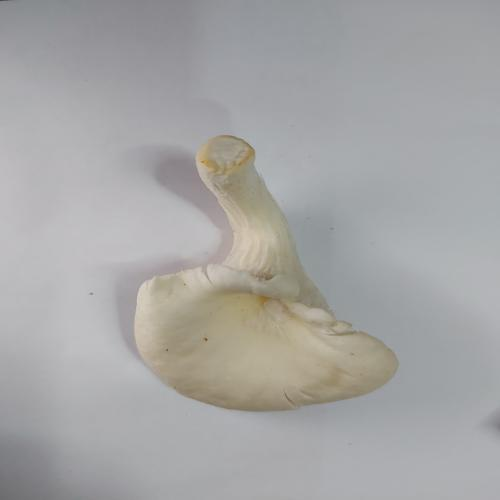Oyster Mushroom: (133, 133, 400, 412)
